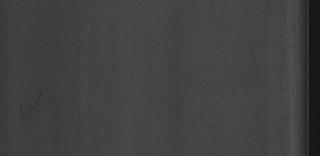water spot: (12, 90, 54, 125)
